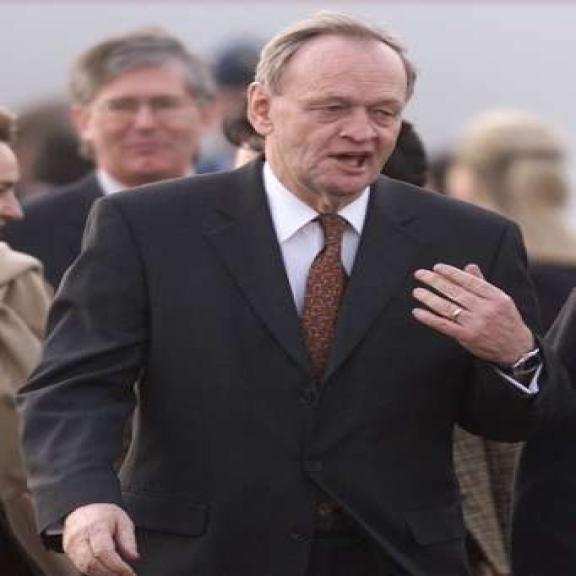face: (242, 42, 406, 197), (71, 68, 221, 184)
